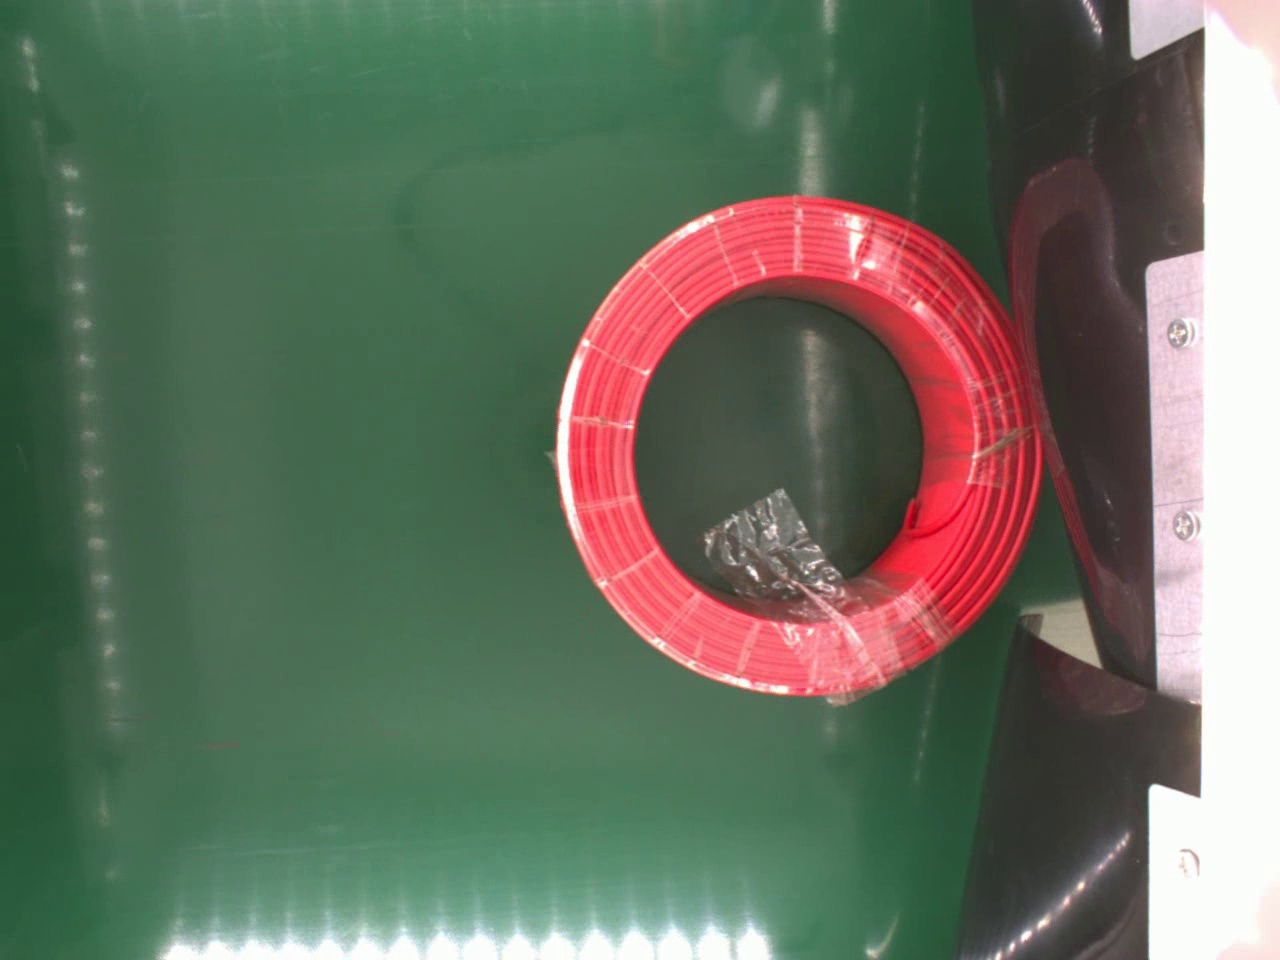red: (553, 193, 1041, 701)
